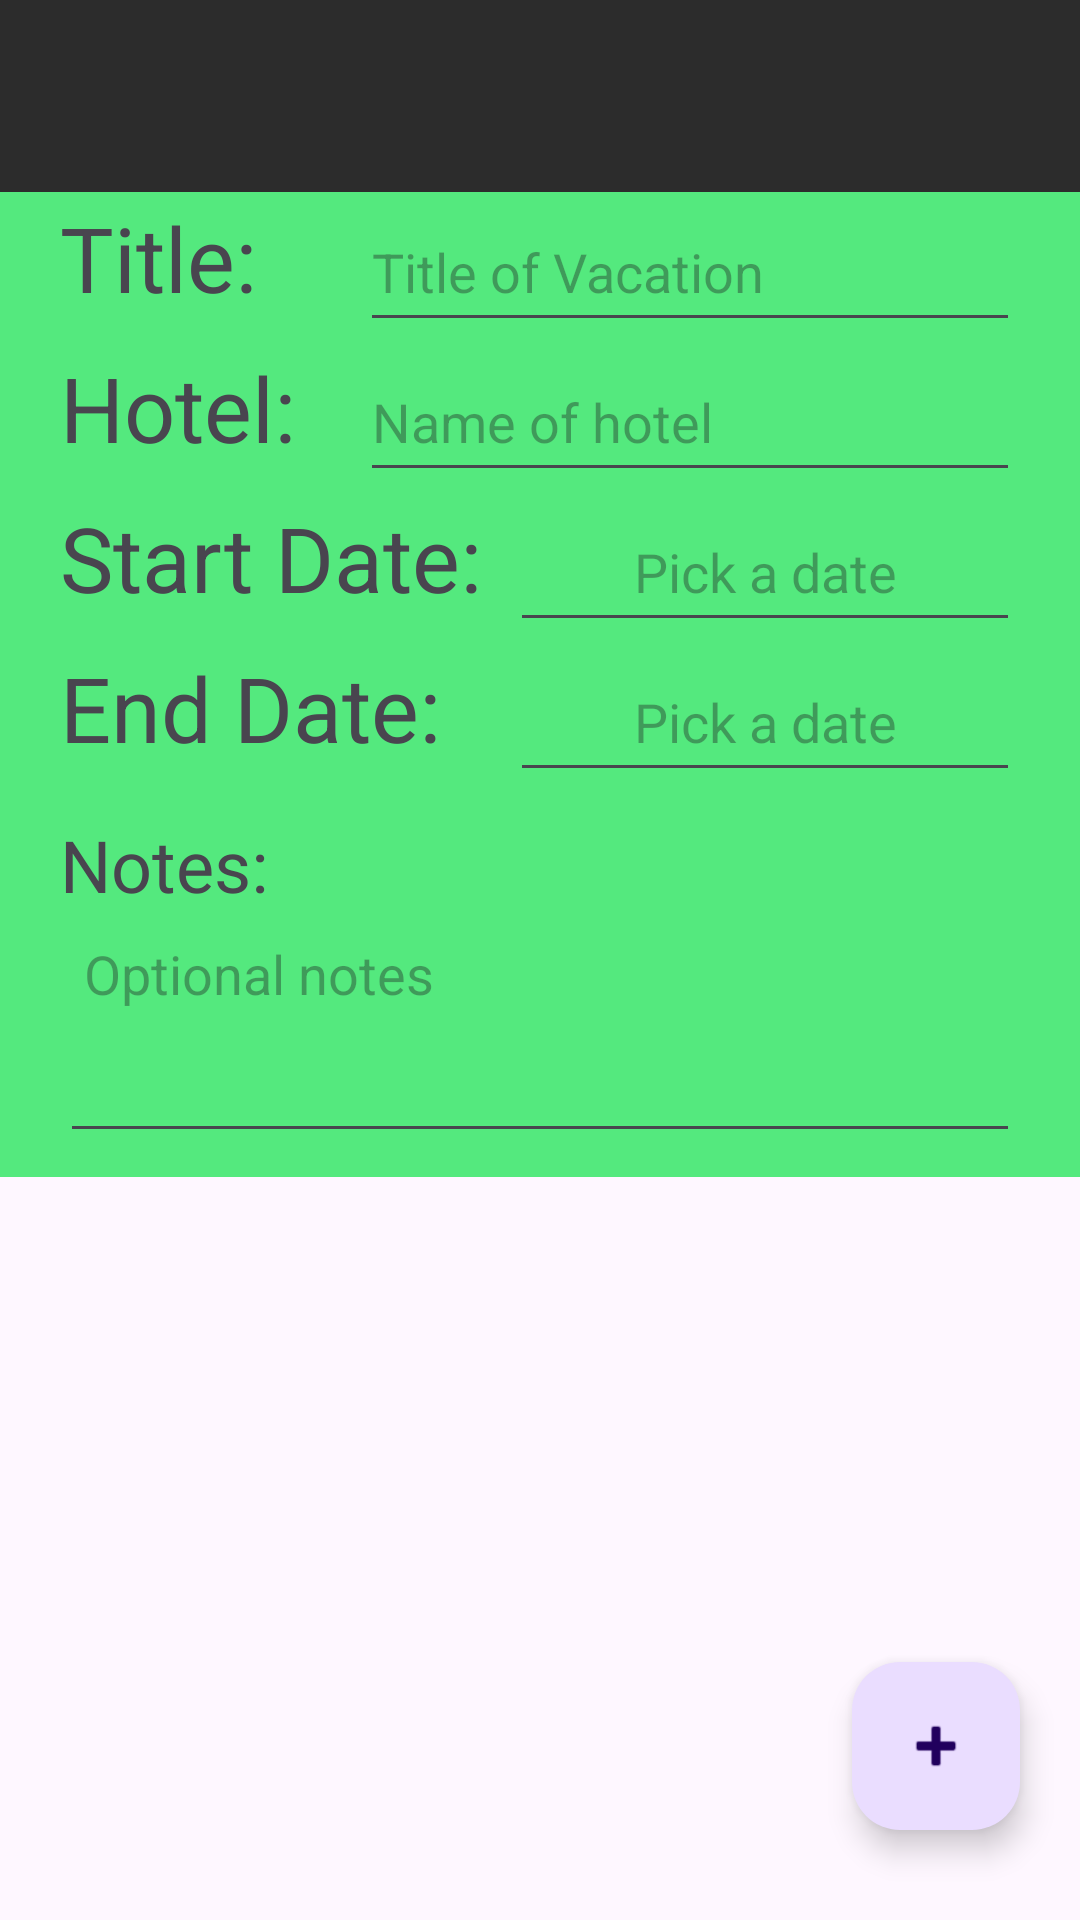

Named icons in this screenshot (1080 x 1920) and their centers, point (x, y):
add: point (936, 1746)
